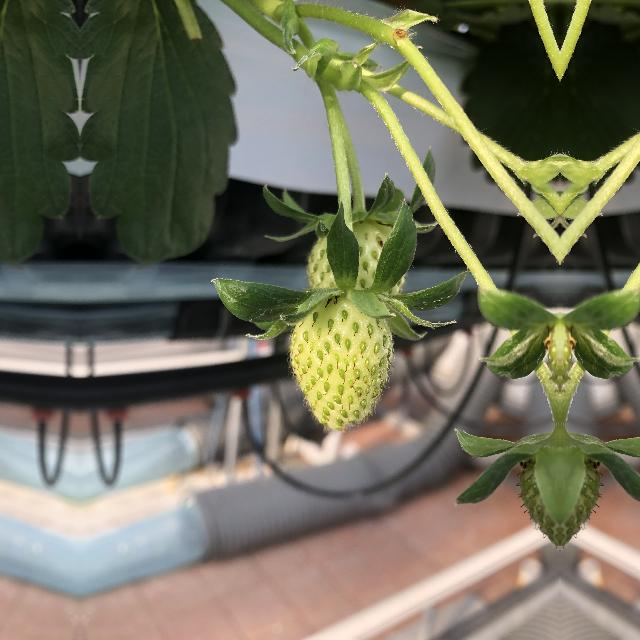Health_25: (287, 280, 401, 442)
